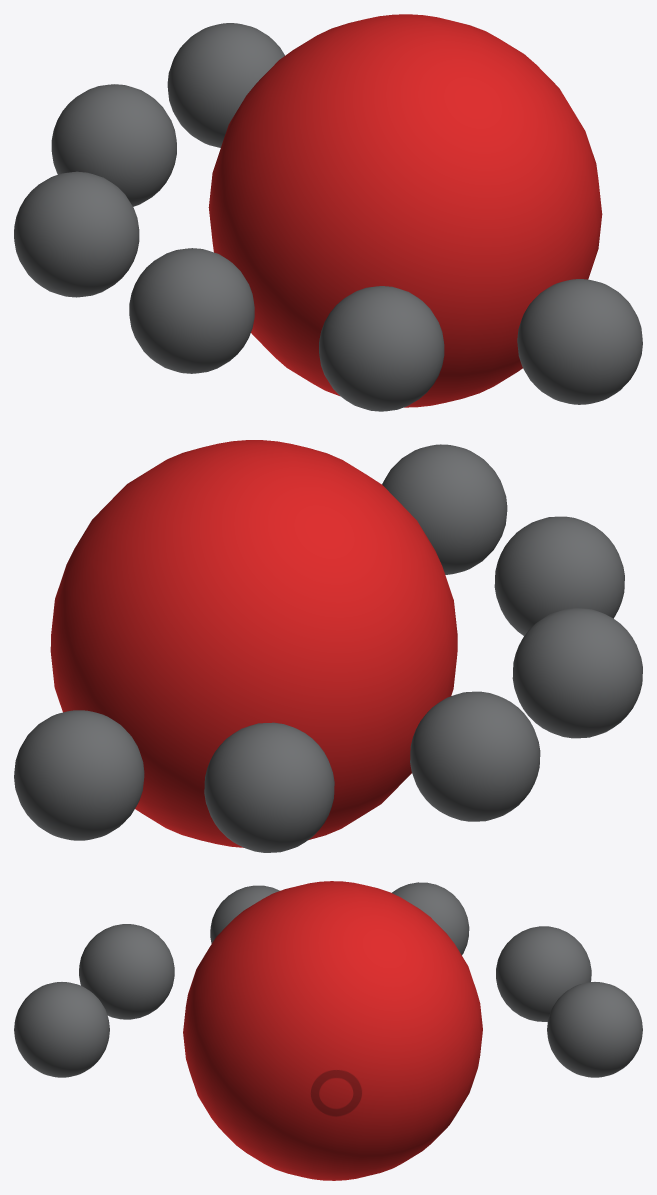
The model's file is oxygenmodel.gltf.
The picture shows the model from 3 angles, top to bottom: view 1: azimuth 30°, elevation 25°; view 2: azimuth 150°, elevation 25°; view 3: azimuth 270°, elevation 25°; orthographic projection. The views are drawn at different scales.
Visible parts, largest first — view 1: HydrogenMain, HydrogenAtom.003, HydrogenAtom.002, HydrogenAtom.006, HydrogenAtom.005, HydrogenAtom.001, HydrogenAtom; view 2: HydrogenMain, HydrogenAtom.005, HydrogenAtom, HydrogenAtom.006, HydrogenAtom.001, HydrogenAtom.003, HydrogenAtom.002; view 3: HydrogenMain, HydrogenAtom, HydrogenAtom.002, HydrogenAtom.003, HydrogenAtom.001, HydrogenAtom.005, HydrogenAtom.006.
Part boxes in pixels (x1,y1,x2,y2): HydrogenMain: [208, 14, 602, 407]; HydrogenAtom.003: [319, 286, 444, 411]; HydrogenAtom.002: [517, 279, 642, 404]; HydrogenAtom.006: [129, 248, 254, 373]; HydrogenAtom.005: [14, 171, 139, 297]; HydrogenAtom.001: [51, 84, 176, 206]; HydrogenAtom: [167, 23, 284, 147]; HydrogenMain: [50, 440, 457, 847]; HydrogenAtom.005: [410, 691, 540, 821]; HydrogenAtom: [14, 710, 144, 840]; HydrogenAtom.006: [512, 608, 642, 738]; HydrogenAtom.001: [204, 722, 334, 852]; HydrogenAtom.003: [494, 516, 624, 635]; HydrogenAtom.002: [382, 444, 507, 574]; HydrogenMain: [183, 881, 482, 1180]; HydrogenAtom: [547, 982, 642, 1077]; HydrogenAtom.002: [14, 982, 109, 1077]; HydrogenAtom.003: [79, 924, 174, 1019]; HydrogenAtom.001: [496, 926, 591, 1021]; HydrogenAtom.005: [392, 882, 469, 955]; HydrogenAtom.006: [210, 885, 279, 943].
Size of the model in its own units: 2.91 by 2 by 4.19.
Materials: 7 (1 with a texture image).
